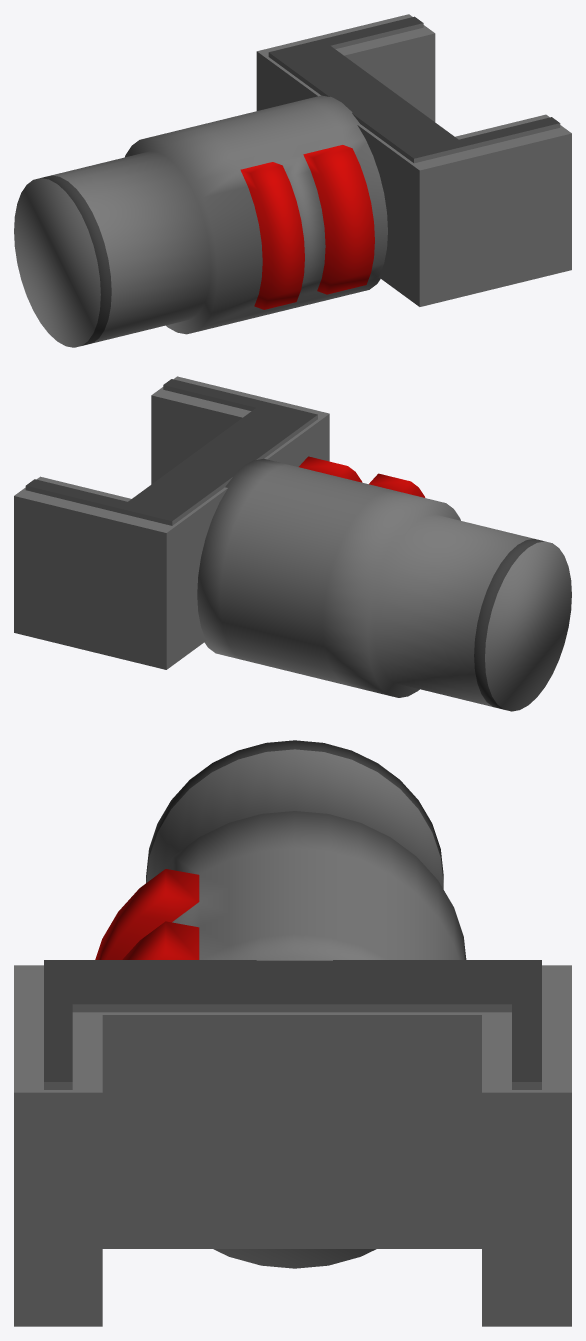
Rendered from shot.fbx.
The picture shows the model from 3 angles, top to bottom: view 1: azimuth 30°, elevation 25°; view 2: azimuth 150°, elevation 25°; view 3: azimuth 270°, elevation 25°; orthographic projection. The views are drawn at different scales.
Visible parts, largest first — view 1: Cylinder, Cube; view 2: Cylinder, Cube; view 3: Cube, Cylinder.
Boxes of the visible parts, box(x1,y1,x2,y2) form: Cylinder: box(14, 95, 387, 347); Cube: box(256, 14, 571, 306); Cylinder: box(197, 456, 571, 711); Cube: box(14, 376, 329, 669); Cube: box(14, 960, 571, 1326); Cylinder: box(95, 740, 466, 1268).
Bounding box in the file's own units: 497 × 200 × 324.
